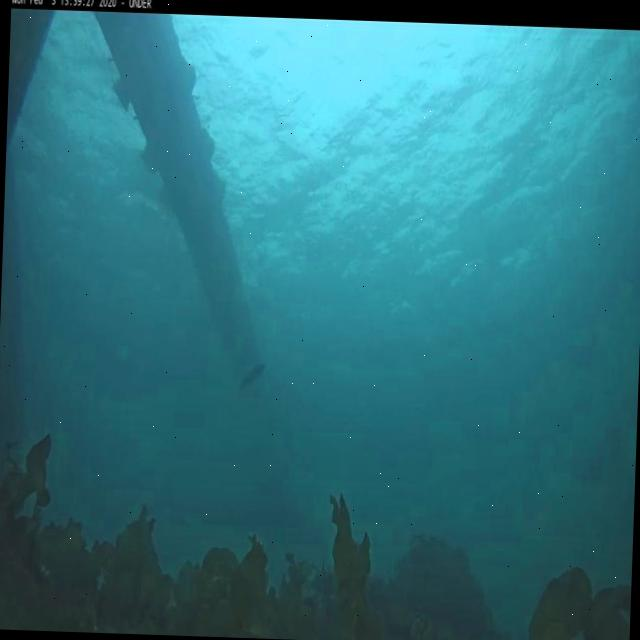fish: (237, 361, 265, 398)
